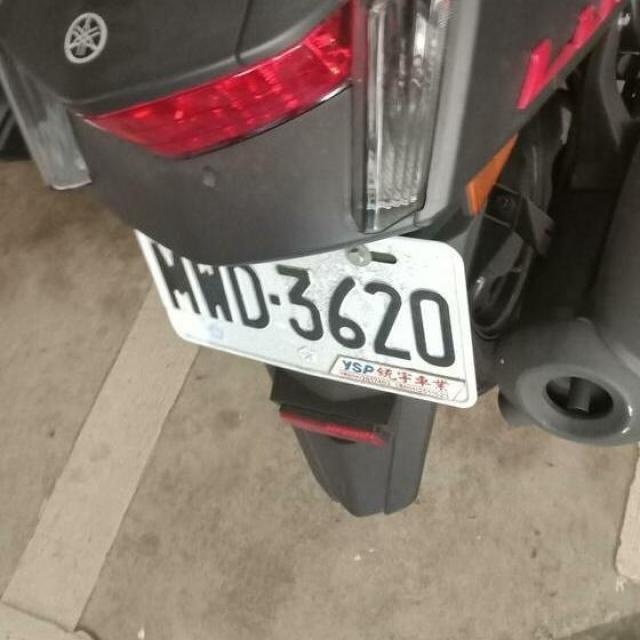W: (134, 197, 487, 426)
